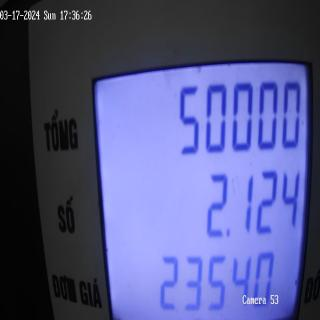screen: (86, 44, 316, 320)
